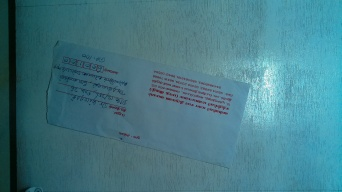l: (45, 38, 250, 174)
